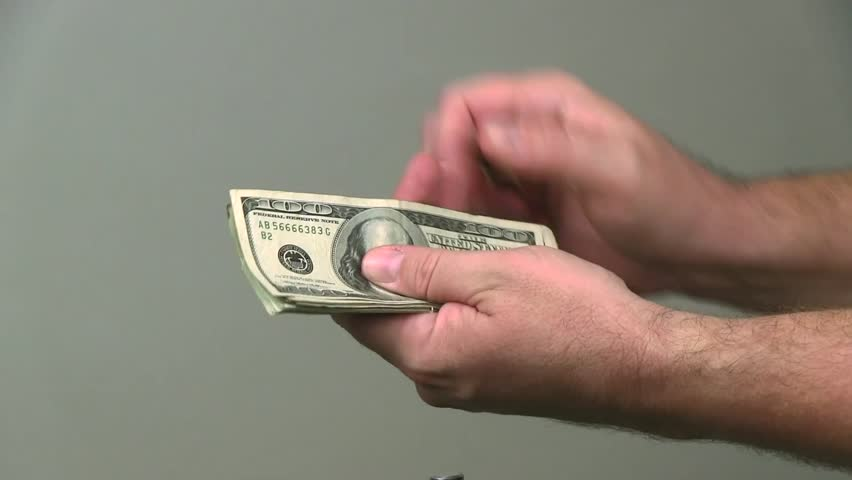billete: (224, 186, 560, 322)
